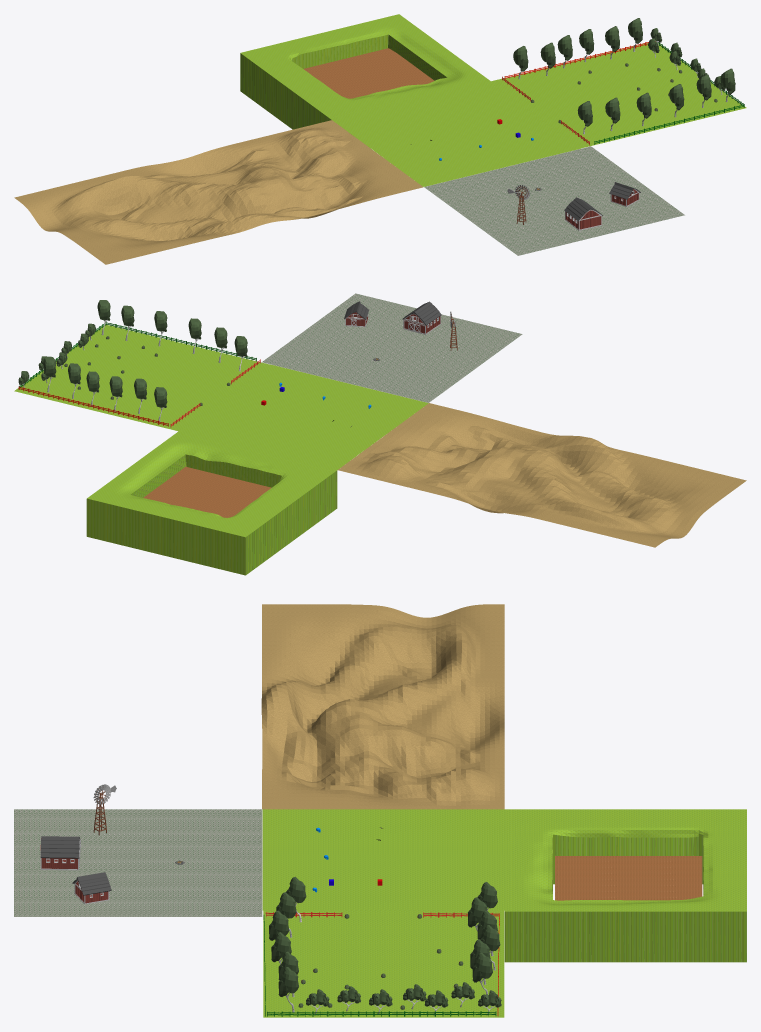
3 views of the same model, one above another, from view 1: azimuth 30°, elevation 25°; view 2: azimuth 150°, elevation 25°; view 3: azimuth 270°, elevation 25° (orthographic). The views are drawn at different scales.
Parts seen in each view (by area): view 1: dessert, ground, village, lakeGround, forest, lake, Barn, smallBarn, Fence.001; view 2: dessert, lakeGround, ground, village, forest, lake, Barn, smallBarn, Fence; view 3: dessert, lakeGround, village, ground, forest, lake, Barn, smallBarn, Fence.002.
Boxes of the visible parts, box(x1,y1,x2,y2) form: dessert: box(14, 120, 423, 264); ground: box(330, 80, 580, 186); village: box(424, 146, 684, 255); lakeGround: box(240, 14, 490, 134); forest: box(489, 42, 746, 148); lake: box(304, 48, 434, 98); Barn: box(564, 197, 602, 230); smallBarn: box(609, 182, 640, 206); Fence.001: box(594, 104, 744, 144); dessert: box(337, 403, 746, 547); lakeGround: box(86, 431, 337, 575); ground: box(178, 365, 428, 471); village: box(262, 293, 522, 402); forest: box(14, 324, 270, 431); lake: box(143, 466, 271, 517); Barn: box(402, 301, 441, 334); smallBarn: box(344, 301, 368, 327); Fence: box(18, 386, 168, 426); dessert: box(261, 604, 504, 809); lakeGround: box(504, 809, 746, 962); village: box(14, 809, 262, 916); ground: box(262, 809, 511, 910); forest: box(263, 910, 504, 1017); lake: box(555, 856, 702, 900); Barn: box(40, 836, 80, 870); smallBarn: box(72, 872, 111, 904); Fence.002: box(267, 1011, 496, 1016).
Bounding box in the file's own units: 404 × 45.4 × 302.
Materials: 177 (6 with a texture image).
